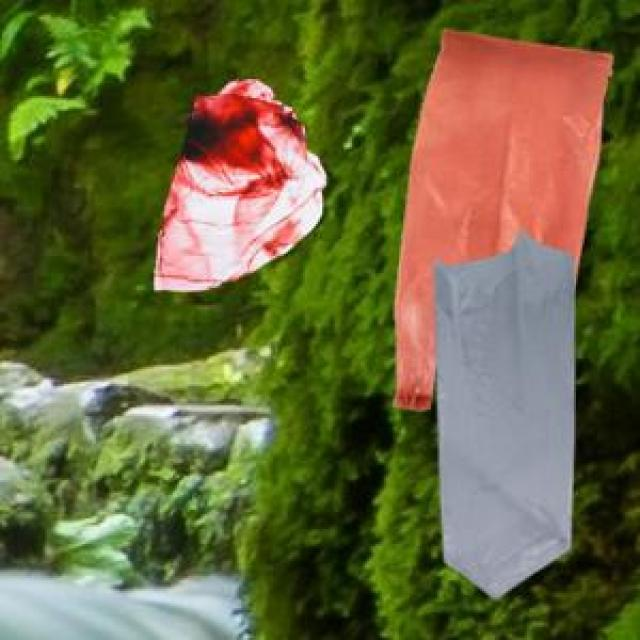waste: (395, 30, 612, 596), (155, 80, 325, 291)
